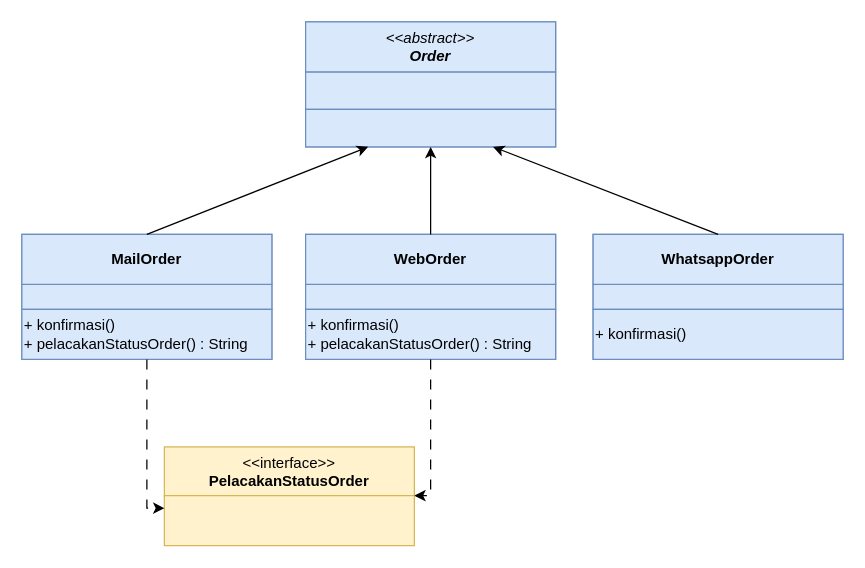
This 865x568 diagram has some shape labels left out. The shapes that lost their labels are listed below. From the top down, each one's centre as x and y in pixels, then its label:
At (x=430, y=90): "- tanggalOrder : Date".
At (x=430, y=127): "+ konfirmasi() : void".
At (x=288, y=520): "+ pelacakanStatusOrder() : String".
